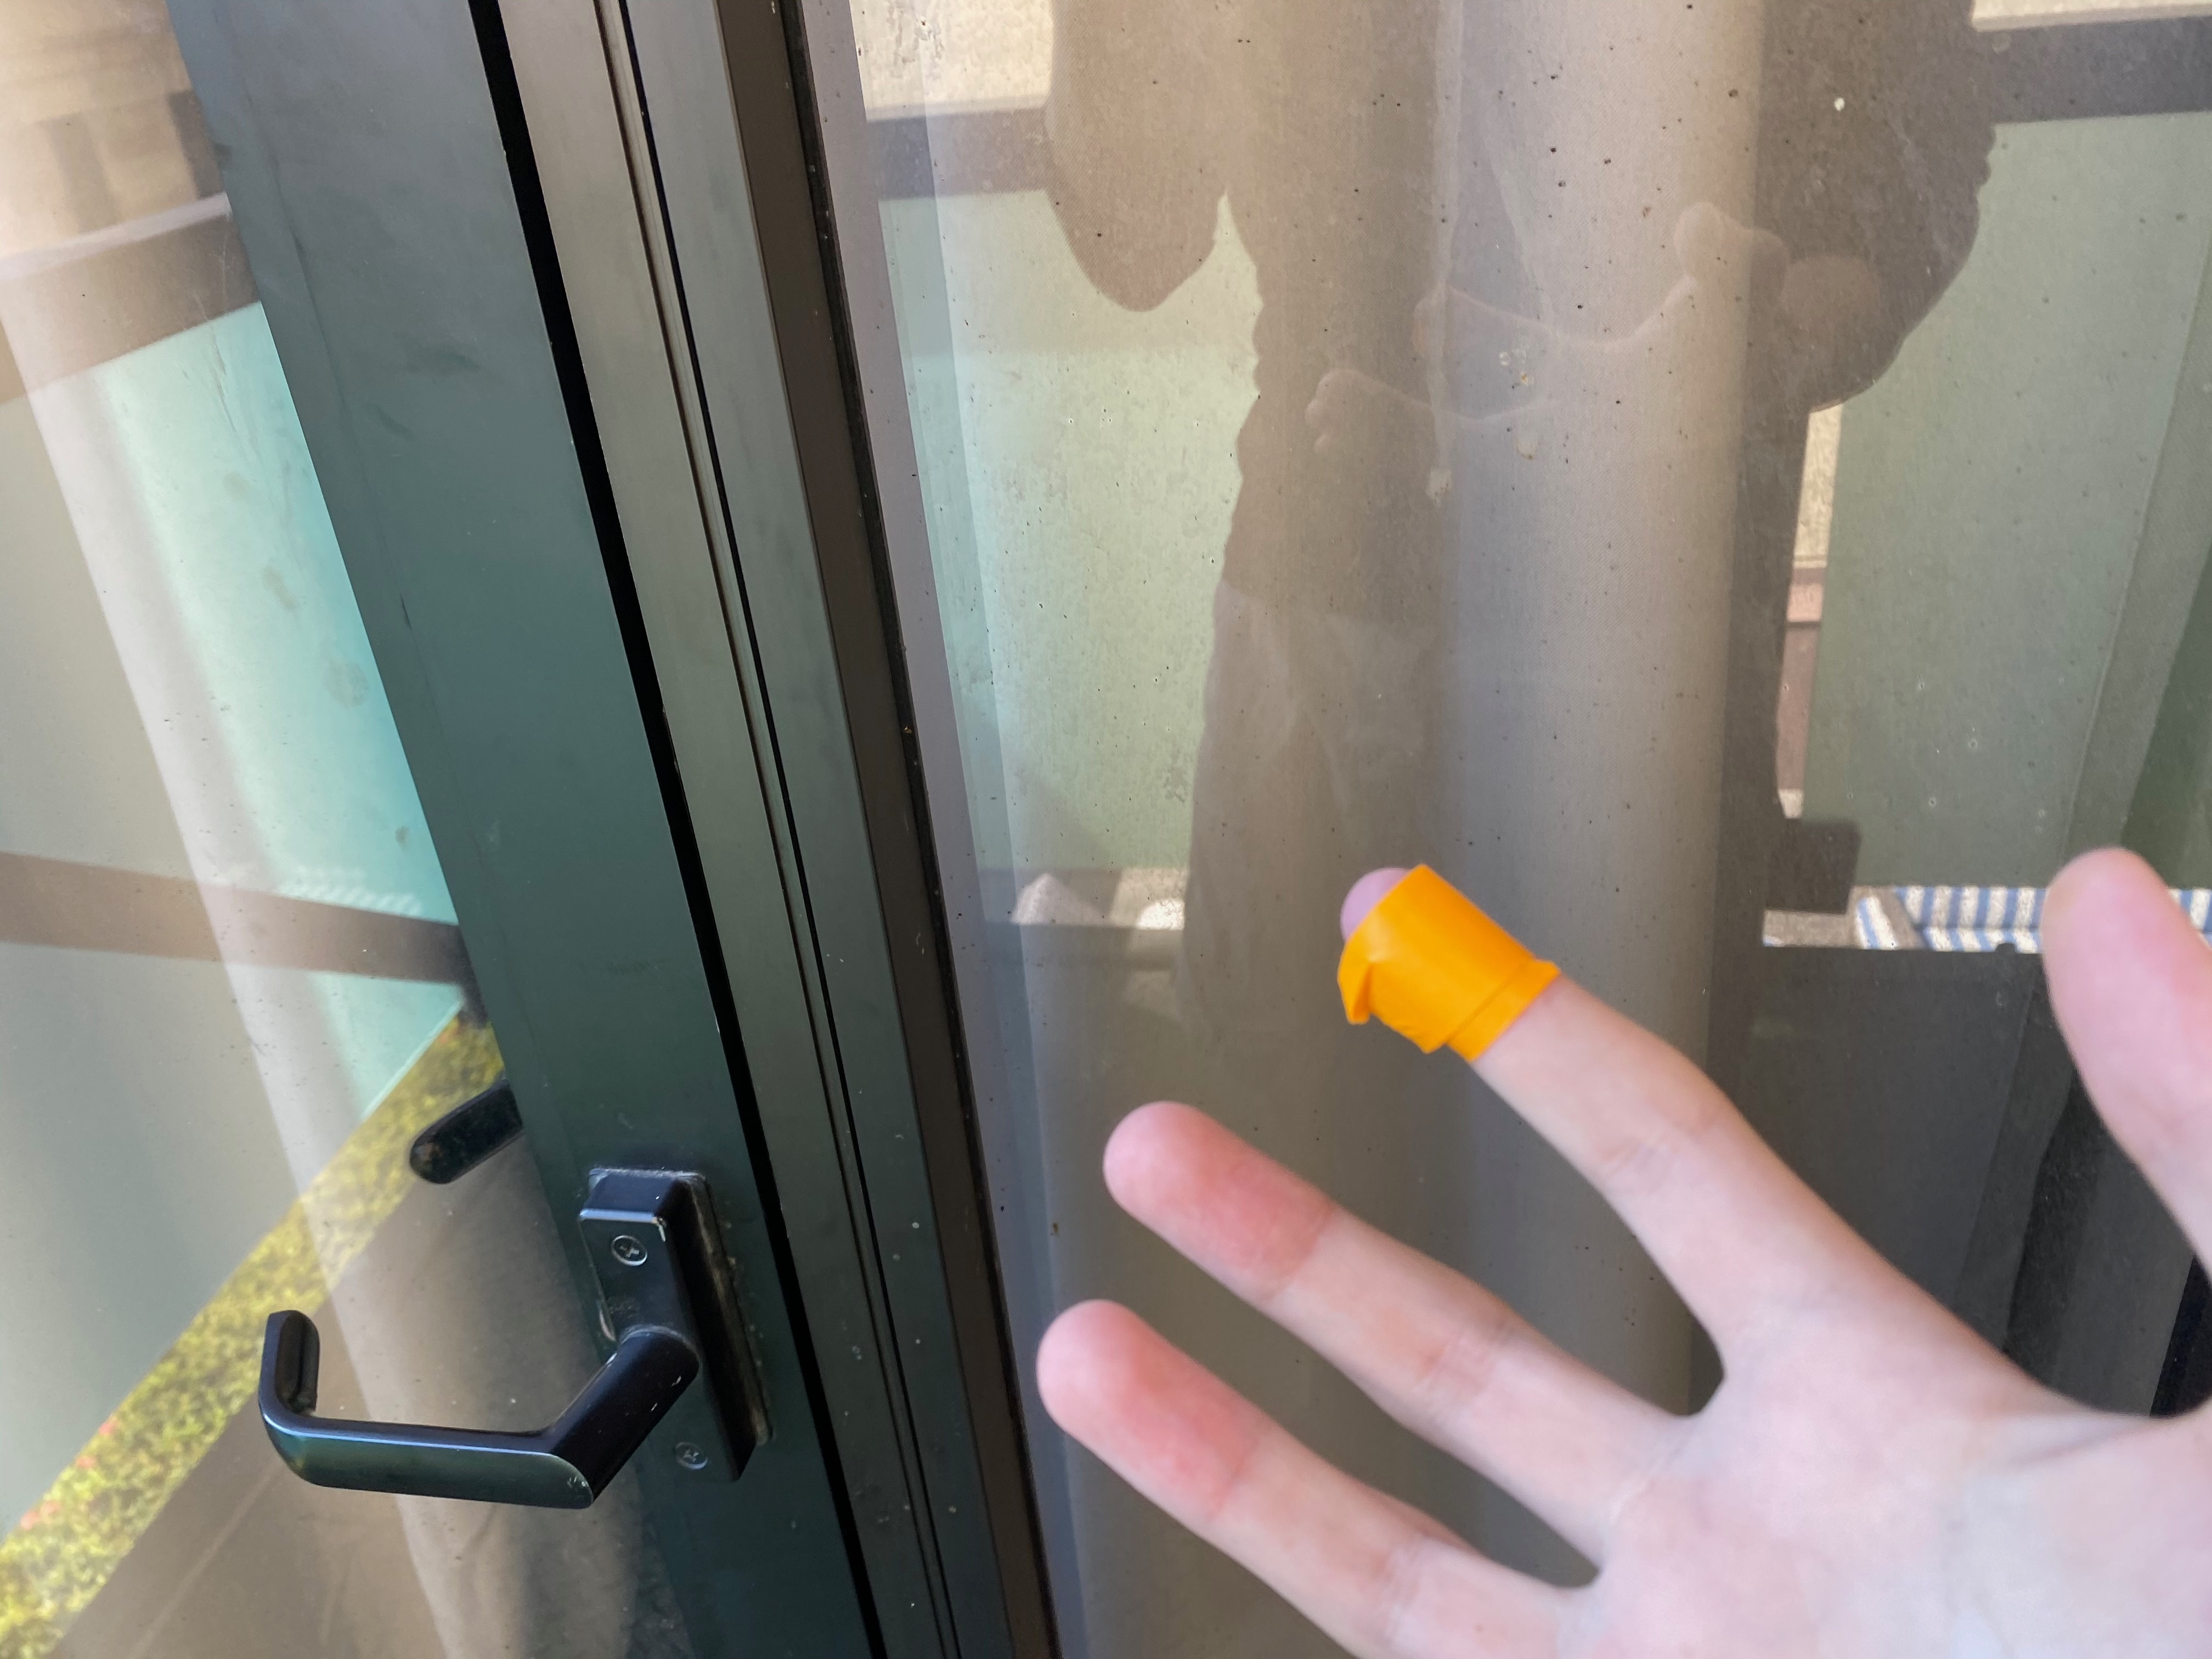fingertip: (1301, 854, 1620, 1094)
